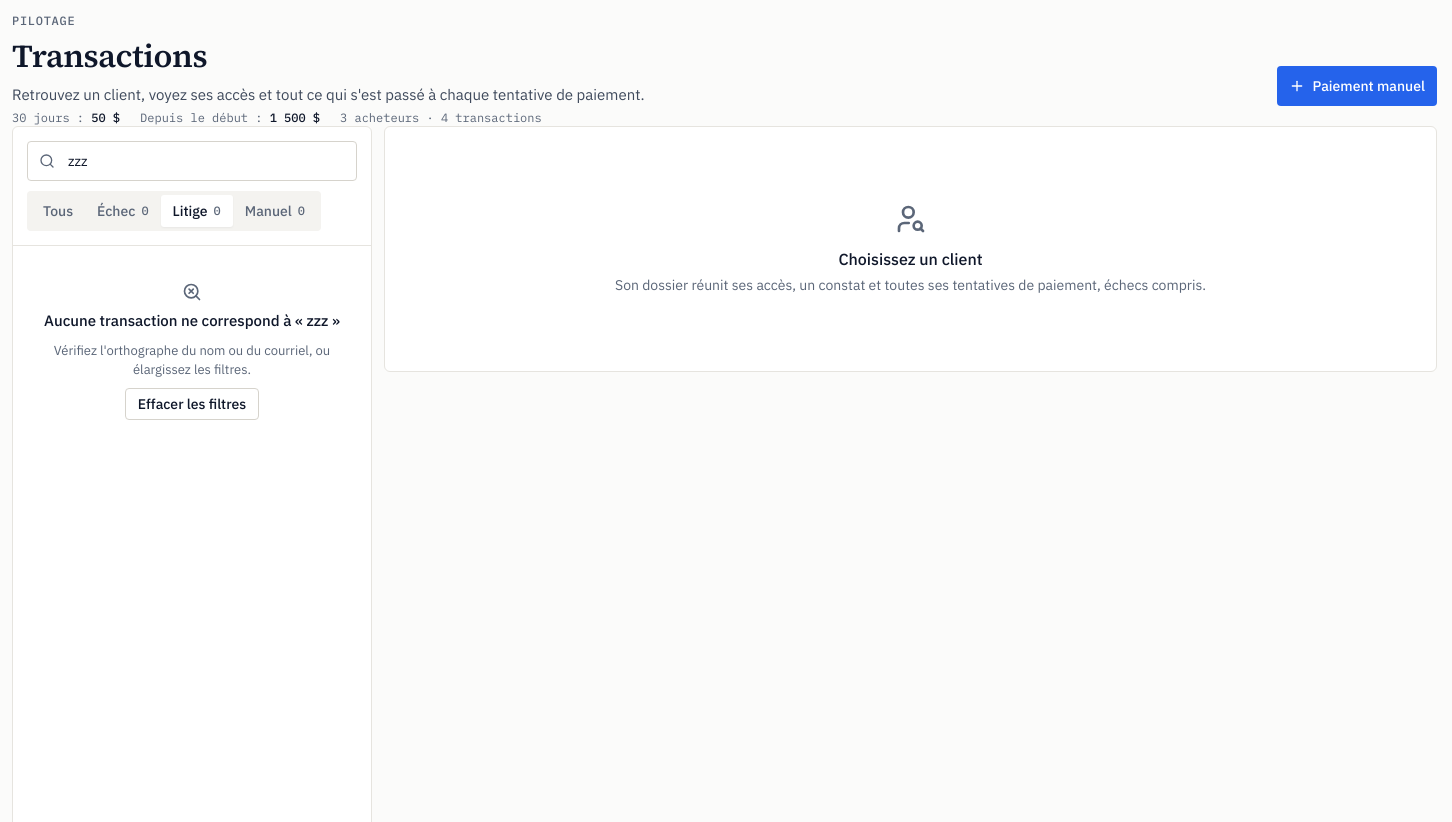
Scenario: TransactionsClient — navigation dans l'URL › « Effacer les filtres » vide la recherche et le filtre
The image size is (1452, 822).
Click the button "Effacer les filtres": (192, 404) [125, 388, 259, 420]
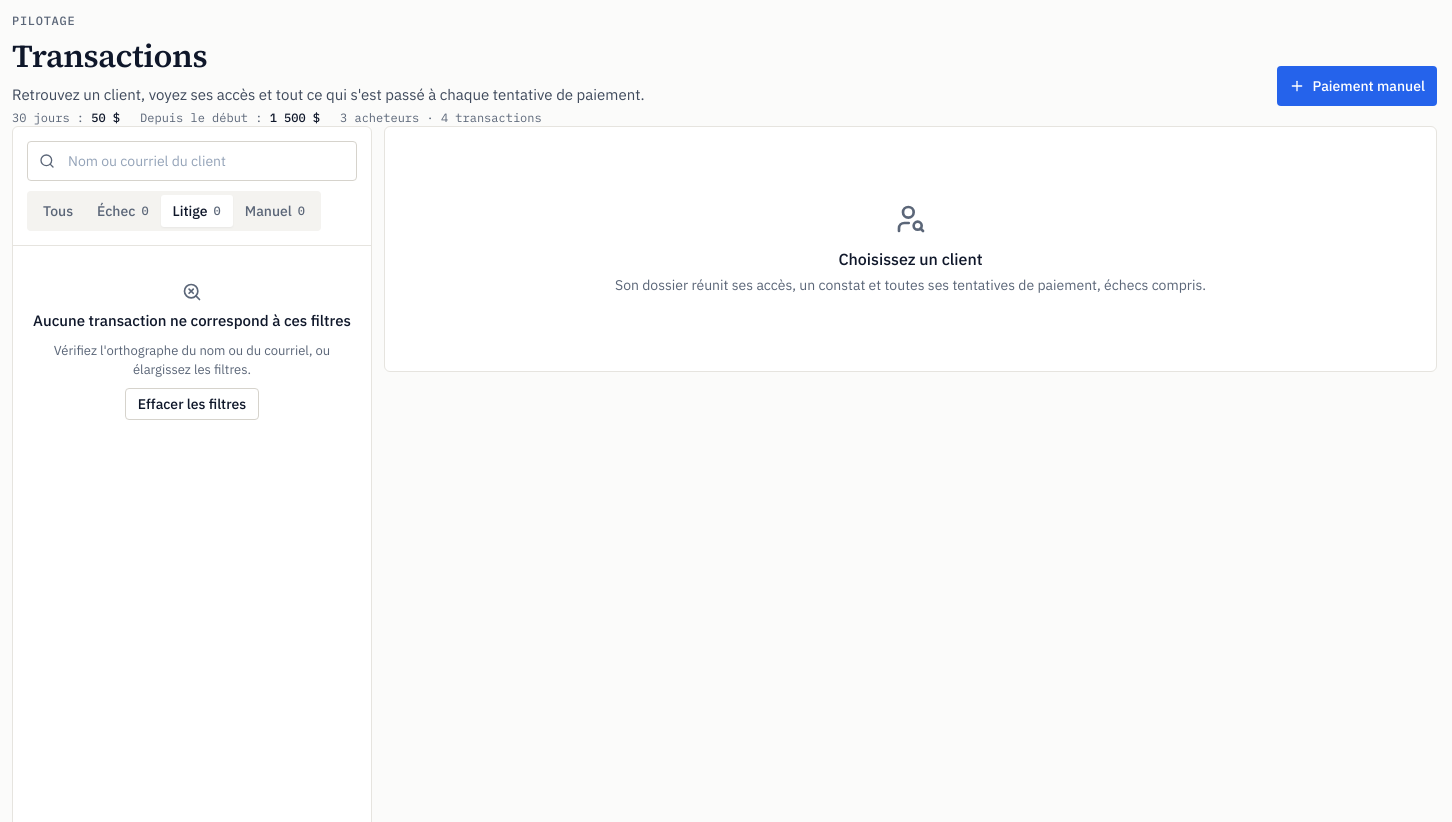
Expected: the field with placeholder "Nom ou courriel du client" is empty, [27, 141, 357, 181]
